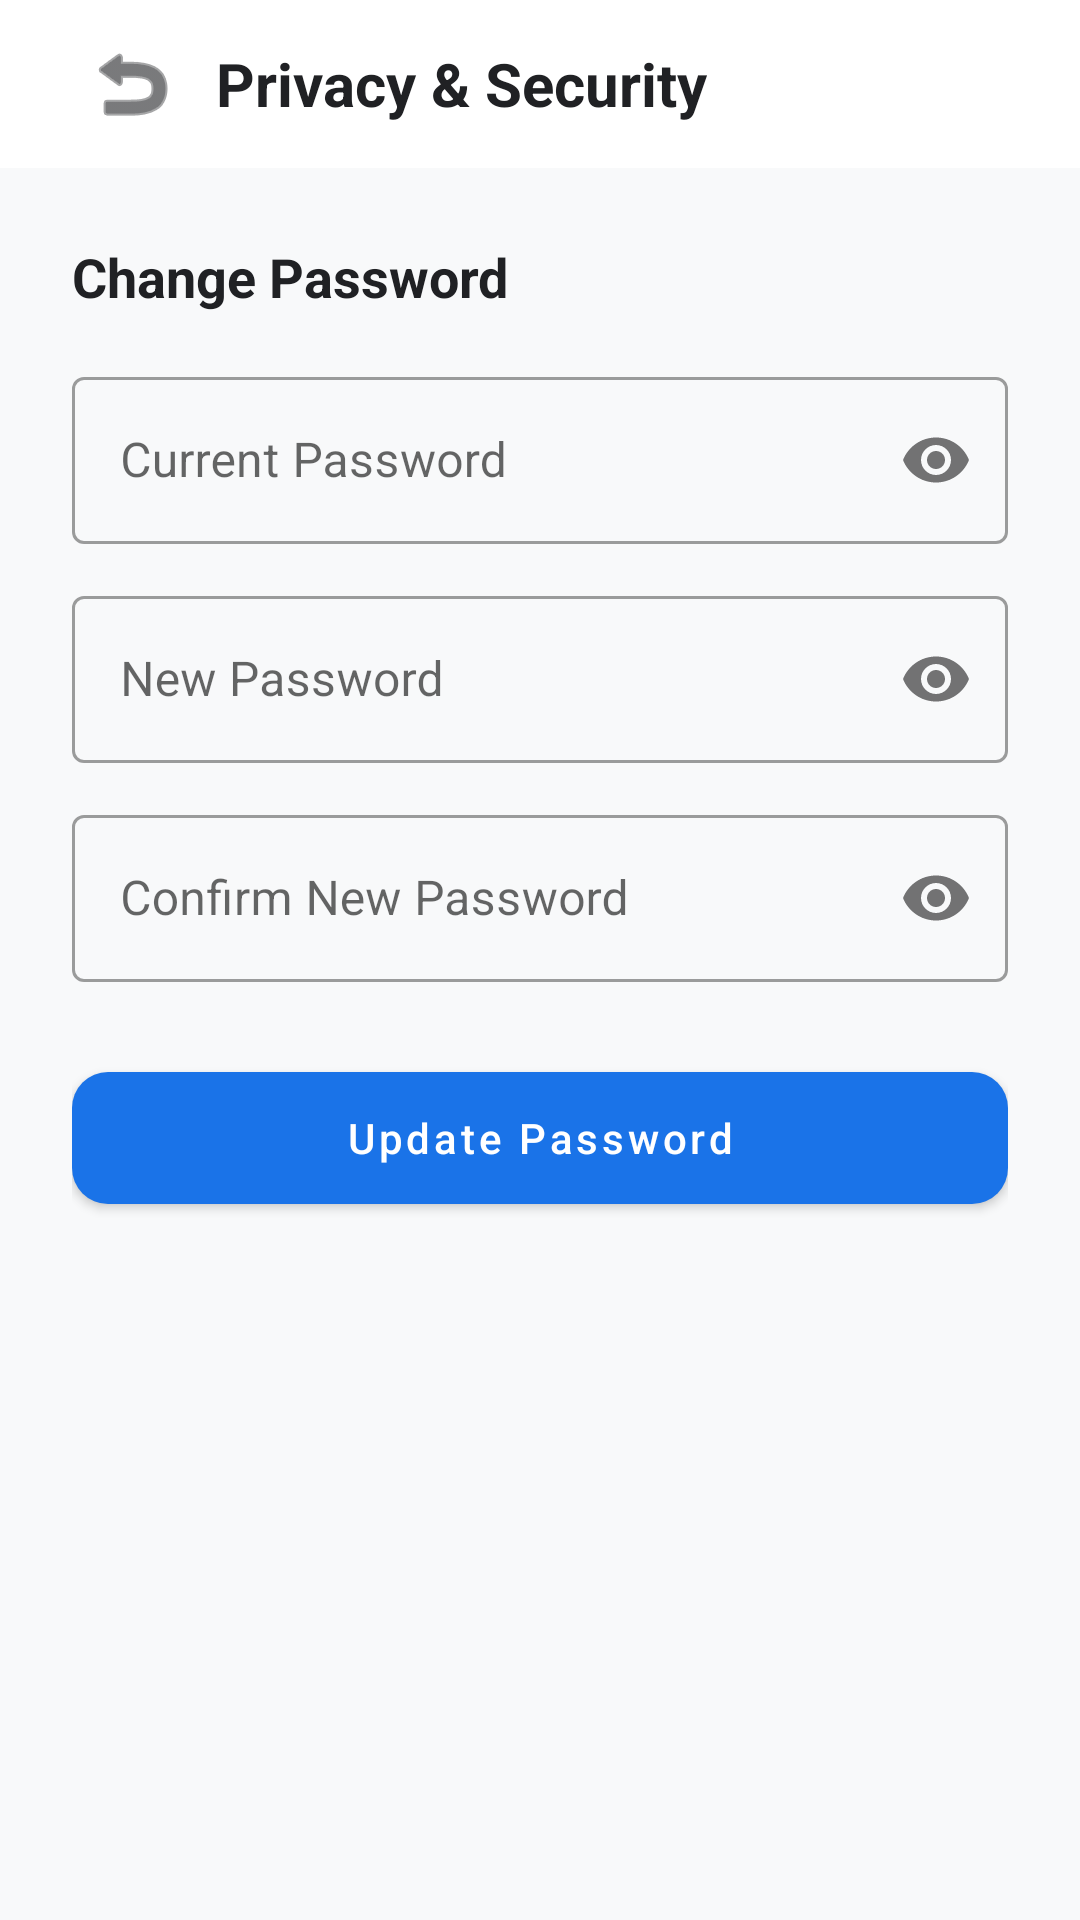

Screen size 1080px×1920px. Icon name, then its center in pixels as (x,y):
revert: (133,84)
